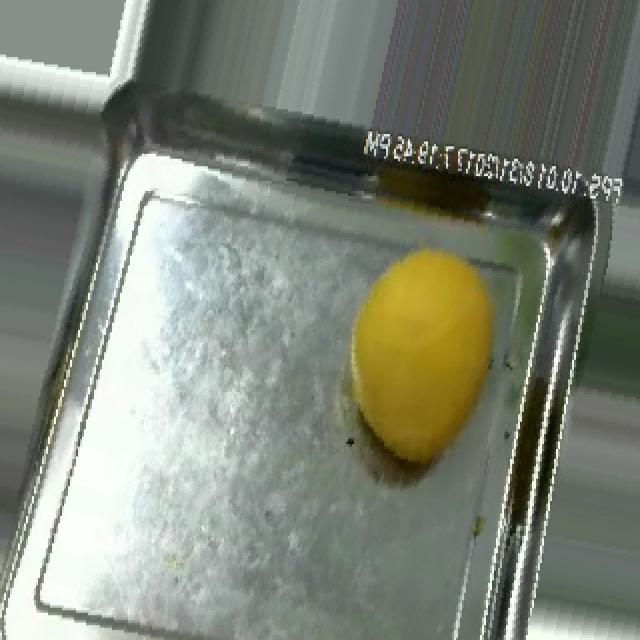fruit: (318, 221, 520, 488)
